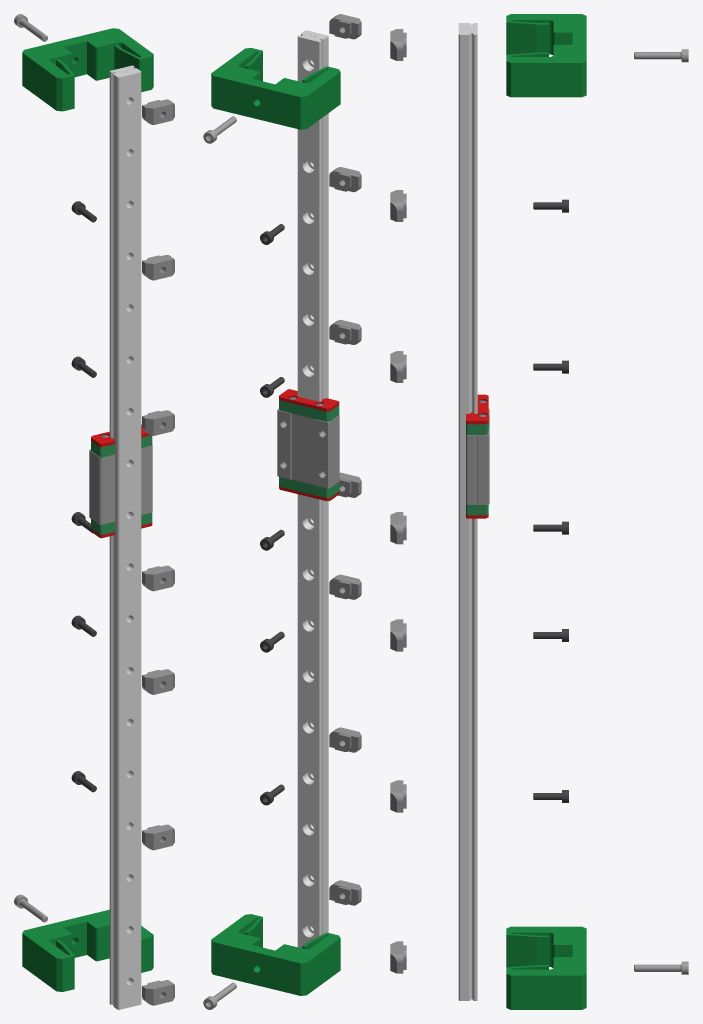
3 renders of one model, left to right at view 1: azimuth 30°, elevation 25°; view 2: azimuth 150°, elevation 25°; view 3: azimuth 270°, elevation 25°, orthographic. The views are drawn at different scales.
Visible parts, largest first — view 1: MGNR12R450HM_FILE_2 v1, 02_47__XP__Fix_MGN12_Rail___V1.0 v005, 02_47__XP__Fix_MGN12_Rail___V1.0 v4, MGN12H, LINEAR GUIDE BLOCK v1, 3030 Nut M3 v1, 3030 Nut M3 v005, 3030 Nut M3 v003, 3030 Nut M3 v002, 3030 Nut M3 v004, 3030 Nut M3 v006, 3030 Nut M3 v007, MGN12H, LINEAR GUIDE BLOCK v002 (+1 smaller); view 2: MGNR12R450HM_FILE_2 v1, 02_47__XP__Fix_MGN12_Rail___V1.0 v4, 02_47__XP__Fix_MGN12_Rail___V1.0 v005, MGN12H, LINEAR GUIDE BLOCK v1, 3030 Nut M3 v006, 3030 Nut M3 v007, 3030 Nut M3 v002, 3030 Nut M3 v003, 3030 Nut M3 v005, 3030 Nut M3 v1, MGN12H, LINEAR GUIDE BLOCK v002, MGN12H, LINEAR GUIDE BLOCK v003 (+2 smaller); view 3: MGNR12R450HM_FILE_2 v1, 02_47__XP__Fix_MGN12_Rail___V1.0 v4, 02_47__XP__Fix_MGN12_Rail___V1.0 v005, MGN12H, LINEAR GUIDE BLOCK v1.
Boxes of the visible parts, bbox=[...] form: MGNR12R450HM_FILE_2 v1: bbox=[109, 65, 141, 1009]; 02_47__XP__Fix_MGN12_Rail___V1.0 v005: bbox=[22, 28, 153, 111]; 02_47__XP__Fix_MGN12_Rail___V1.0 v4: bbox=[22, 909, 153, 991]; MGN12H, LINEAR GUIDE BLOCK v1: bbox=[89, 444, 152, 524]; 3030 Nut M3 v1: bbox=[142, 980, 174, 1005]; 3030 Nut M3 v005: bbox=[142, 410, 174, 435]; 3030 Nut M3 v003: bbox=[142, 669, 174, 694]; 3030 Nut M3 v002: bbox=[142, 824, 174, 850]; 3030 Nut M3 v004: bbox=[142, 565, 174, 591]; 3030 Nut M3 v006: bbox=[142, 255, 174, 280]; 3030 Nut M3 v007: bbox=[142, 99, 174, 124]; MGN12H, LINEAR GUIDE BLOCK v002: bbox=[91, 435, 152, 457]; MGNR12R450HM_FILE_2 v1: bbox=[297, 30, 328, 948]; 02_47__XP__Fix_MGN12_Rail___V1.0 v4: bbox=[211, 914, 340, 995]; 02_47__XP__Fix_MGN12_Rail___V1.0 v005: bbox=[211, 48, 340, 129]; MGN12H, LINEAR GUIDE BLOCK v1: bbox=[277, 408, 339, 488]; 3030 Nut M3 v006: bbox=[329, 167, 361, 192]; 3030 Nut M3 v007: bbox=[329, 14, 361, 39]; 3030 Nut M3 v002: bbox=[329, 727, 361, 752]; 3030 Nut M3 v003: bbox=[329, 574, 361, 599]; 3030 Nut M3 v005: bbox=[329, 319, 361, 344]; 3030 Nut M3 v1: bbox=[329, 880, 361, 905]; MGN12H, LINEAR GUIDE BLOCK v002: bbox=[279, 399, 339, 421]; MGN12H, LINEAR GUIDE BLOCK v003: bbox=[279, 477, 339, 497]; MGNR12R450HM_FILE_2 v1: bbox=[458, 23, 477, 1000]; 02_47__XP__Fix_MGN12_Rail___V1.0 v4: bbox=[506, 926, 586, 1009]; 02_47__XP__Fix_MGN12_Rail___V1.0 v005: bbox=[506, 14, 586, 97]; MGN12H, LINEAR GUIDE BLOCK v1: bbox=[466, 409, 489, 504].
Size of the model in its own units: 0.049 by 0.45 by 0.1259.
